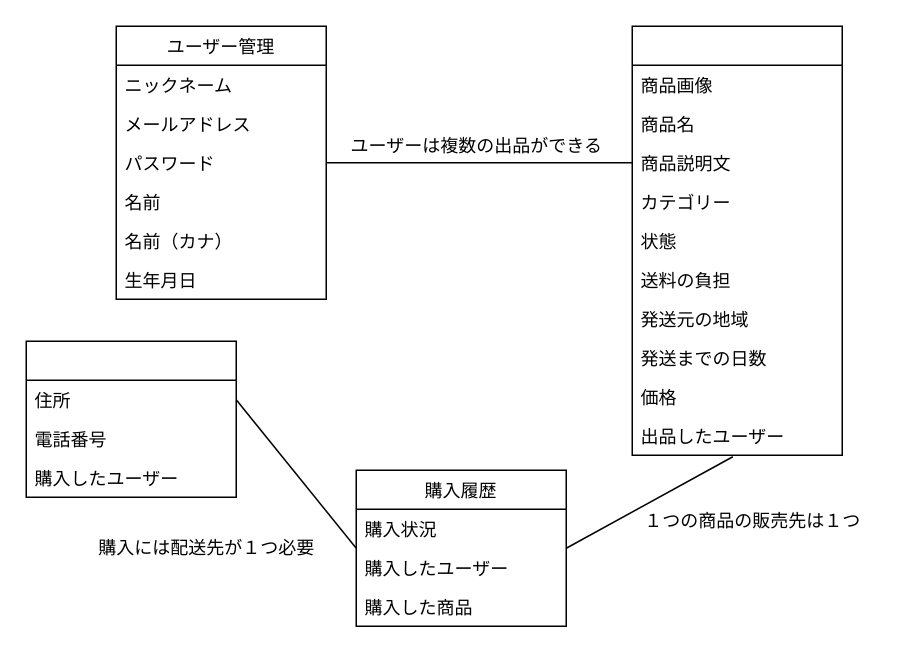
This 899x657 diagram has some shape labels left out. The box of each missing label's shape, as (x1, y1, x2, y2) in pixels:
商品情報: (631, 25, 842, 455)
配送先: (25, 340, 236, 497)
